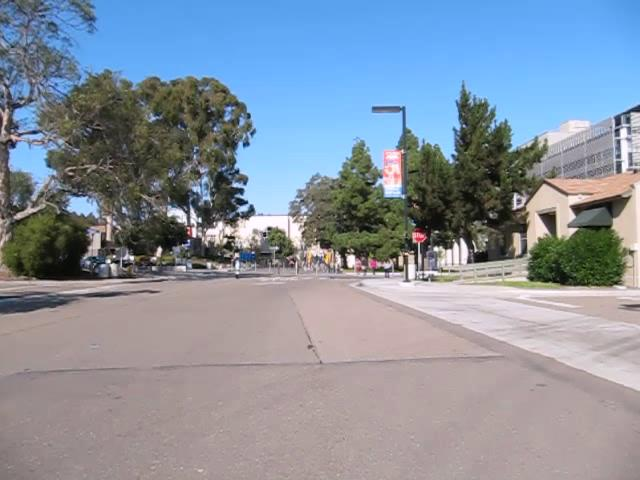stop: (411, 226, 428, 243)
